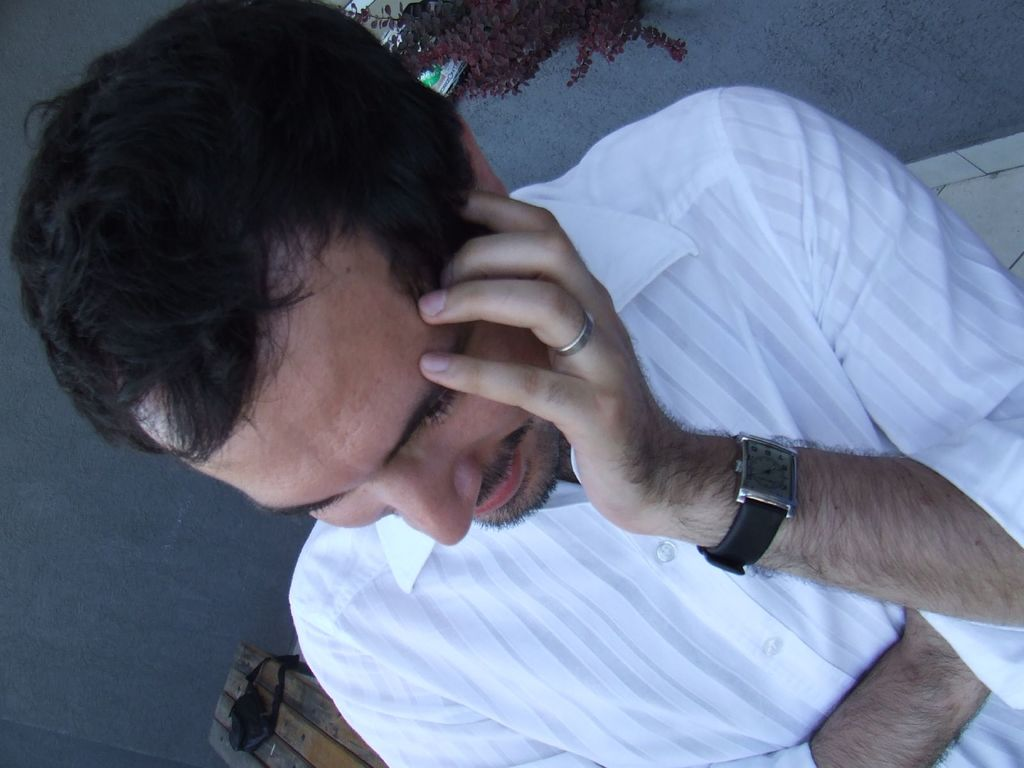watch: (693, 432, 797, 573)
